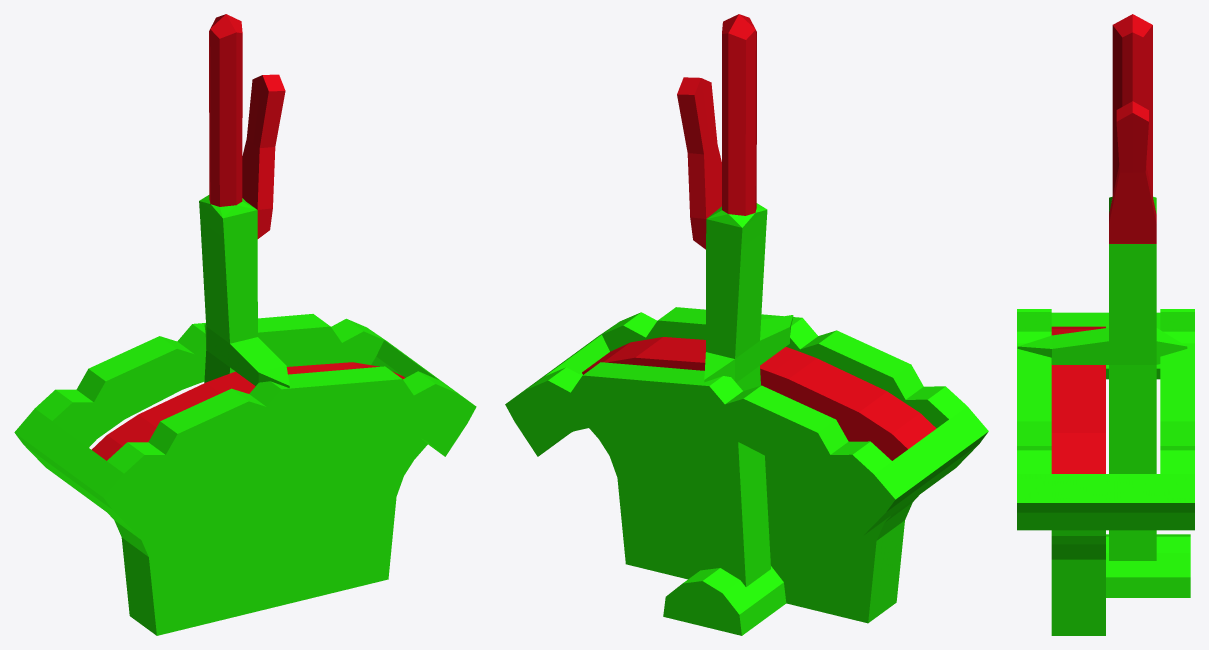
File: gear-lever.fbx
3 renders of one model, left to right at view 1: azimuth 30°, elevation 25°; view 2: azimuth 150°, elevation 25°; view 3: azimuth 270°, elevation 25°, orthographic. The views are drawn at different scales.
Visible parts, largest first — view 1: gear.base, gear.lever; view 2: gear.base, gear.lever; view 3: gear.base, gear.lever.
Boxes of the visible parts, x1=… form: gear.base: x1=14, y1=314, x2=476, y2=635; gear.lever: x1=199, y1=14, x2=289, y2=387; gear.base: x1=505, y1=307, x2=988, y2=635; gear.lever: x1=677, y1=14, x2=793, y2=586; gear.base: x1=1017, y1=309, x2=1194, y2=635; gear.lever: x1=1017, y1=14, x2=1187, y2=560.
Size of the model in its own units: 34.05 by 119 by 82.17.
